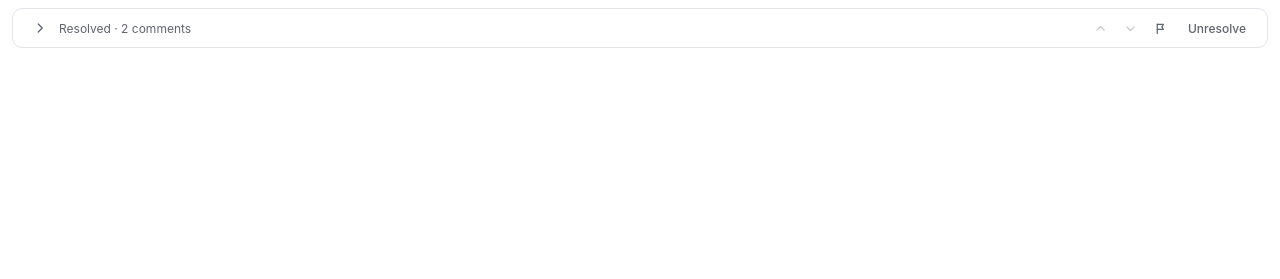
Test: CommentThread › shows comments again on a resolved thread when the chevron is clicked
Click the button named "Show resolved thread": (40, 28) [27,15,53,41]
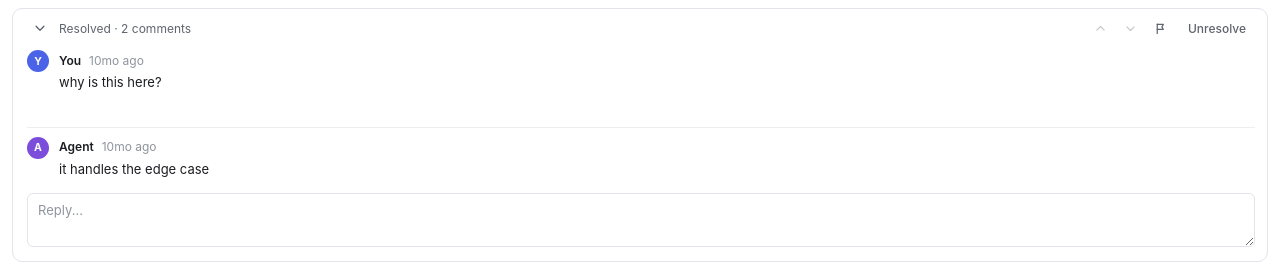
Expected: the text "why is this here?" is shown, [59,74,162,90]
